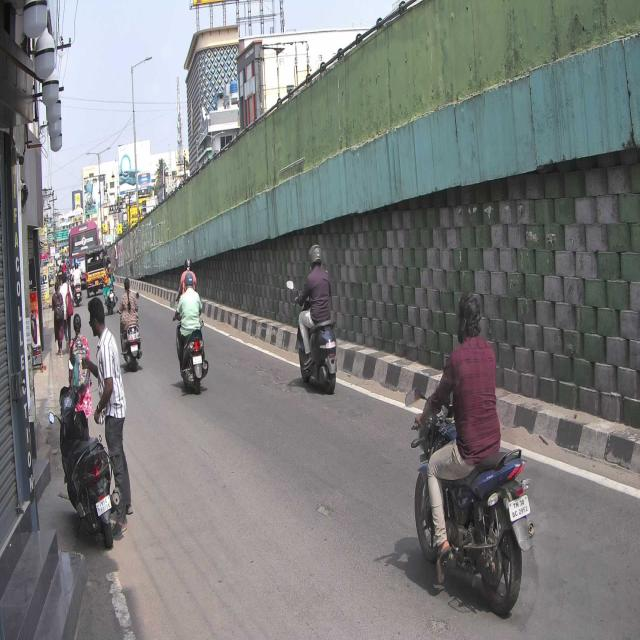single_rider: (408, 286, 534, 615), (291, 240, 338, 396)
